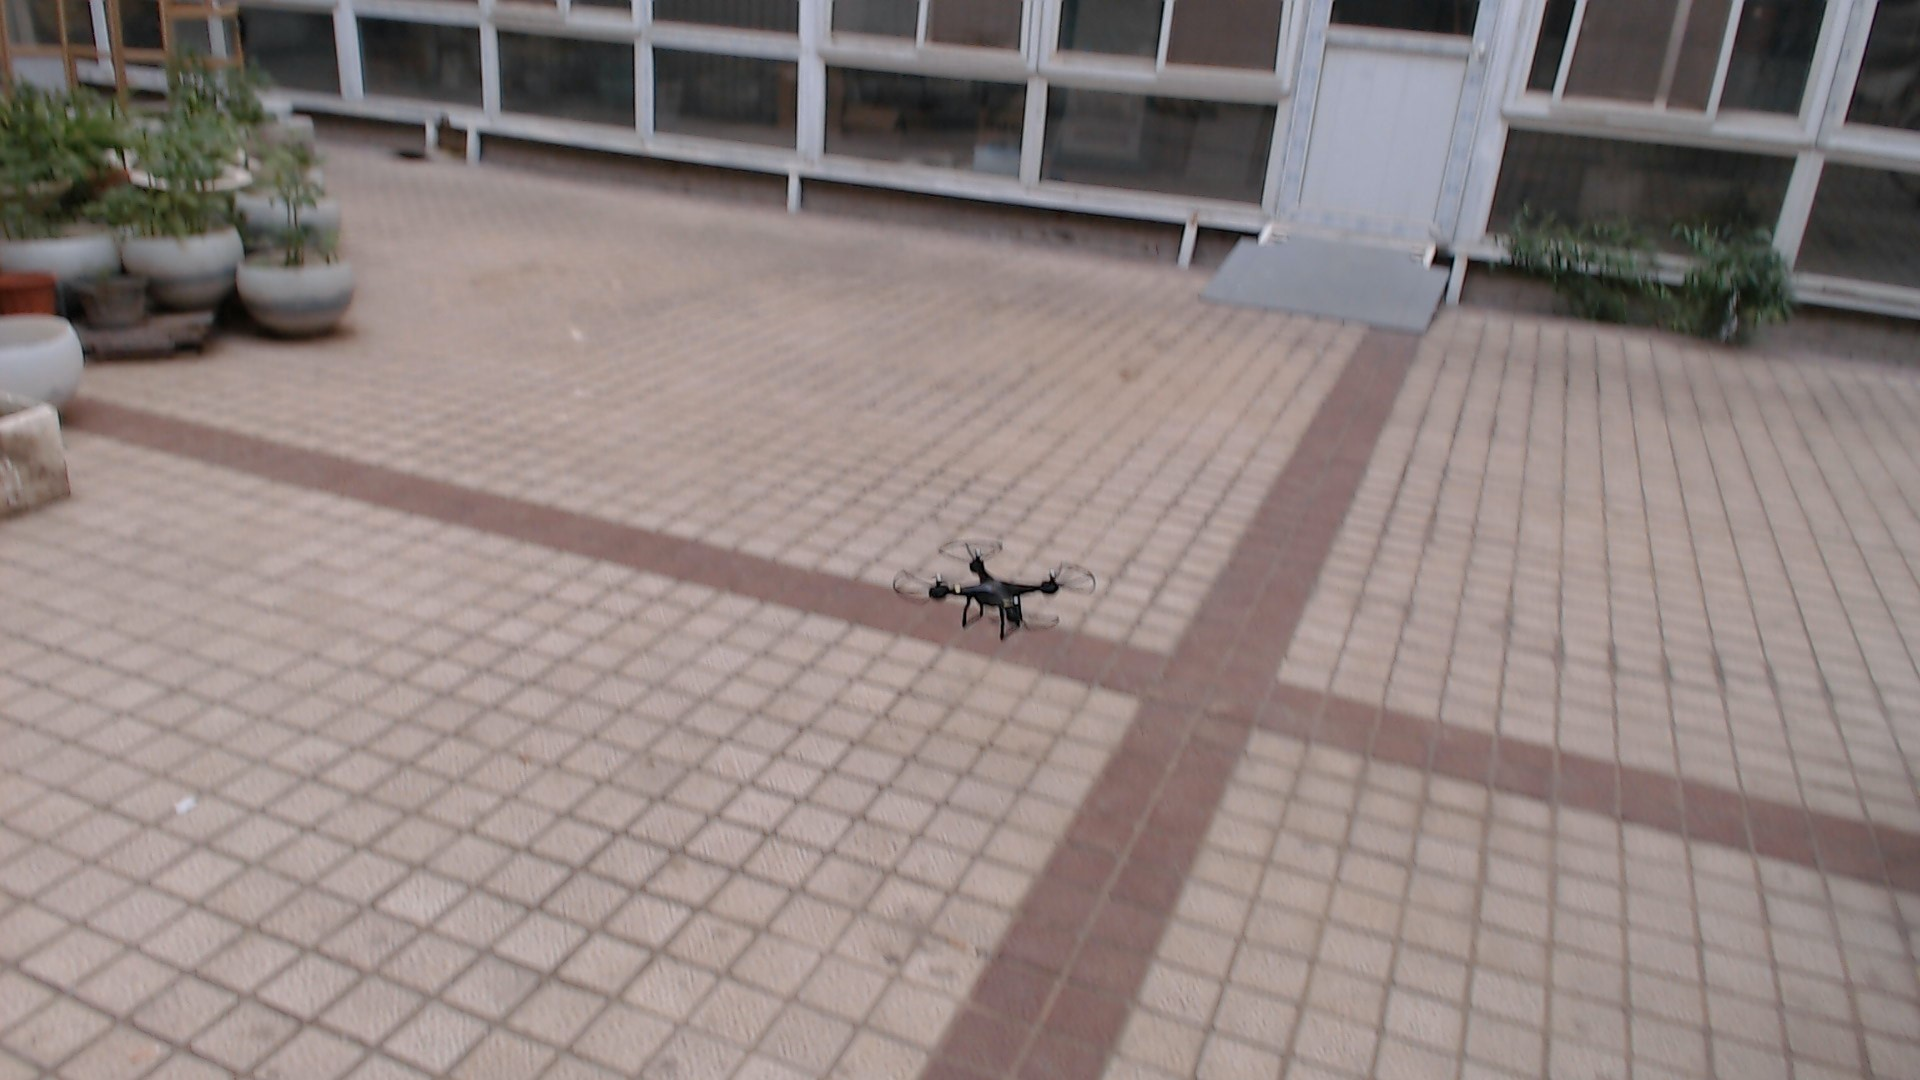drone: (876, 504, 1108, 663)
